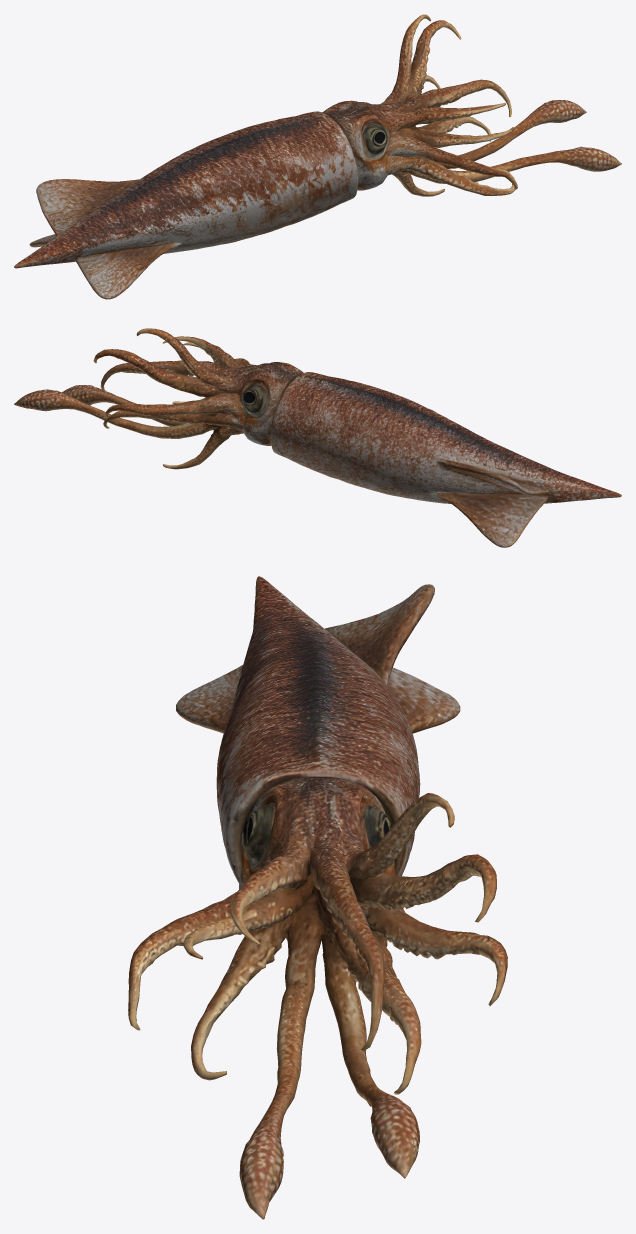
The model's file is phragmoteuthis.preview.glb.
The picture shows the model from 3 angles, top to bottom: view 1: azimuth 30°, elevation 25°; view 2: azimuth 150°, elevation 25°; view 3: azimuth 270°, elevation 25°; orthographic projection. The views are drawn at different scales.
Visible parts, largest first — view 1: tripo_node_134d8b07-886d-48cd-81b0-47f10eb496c5.001; view 2: tripo_node_134d8b07-886d-48cd-81b0-47f10eb496c5.001; view 3: tripo_node_134d8b07-886d-48cd-81b0-47f10eb496c5.001.
Boxes of the visible parts, box(x1,y1,x2,y2) form: tripo_node_134d8b07-886d-48cd-81b0-47f10eb496c5.001: box(14, 14, 621, 299); tripo_node_134d8b07-886d-48cd-81b0-47f10eb496c5.001: box(14, 328, 621, 547); tripo_node_134d8b07-886d-48cd-81b0-47f10eb496c5.001: box(128, 576, 507, 1219).
Bounding box in the file's own units: 1 × 0.2556 × 0.2877.
1 material, 1 textured.
